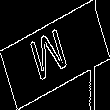M_S: (32, 23, 78, 87)
